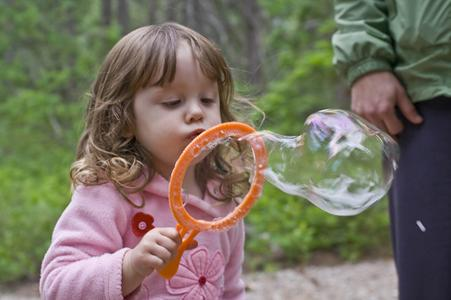person: (41, 20, 250, 300)
